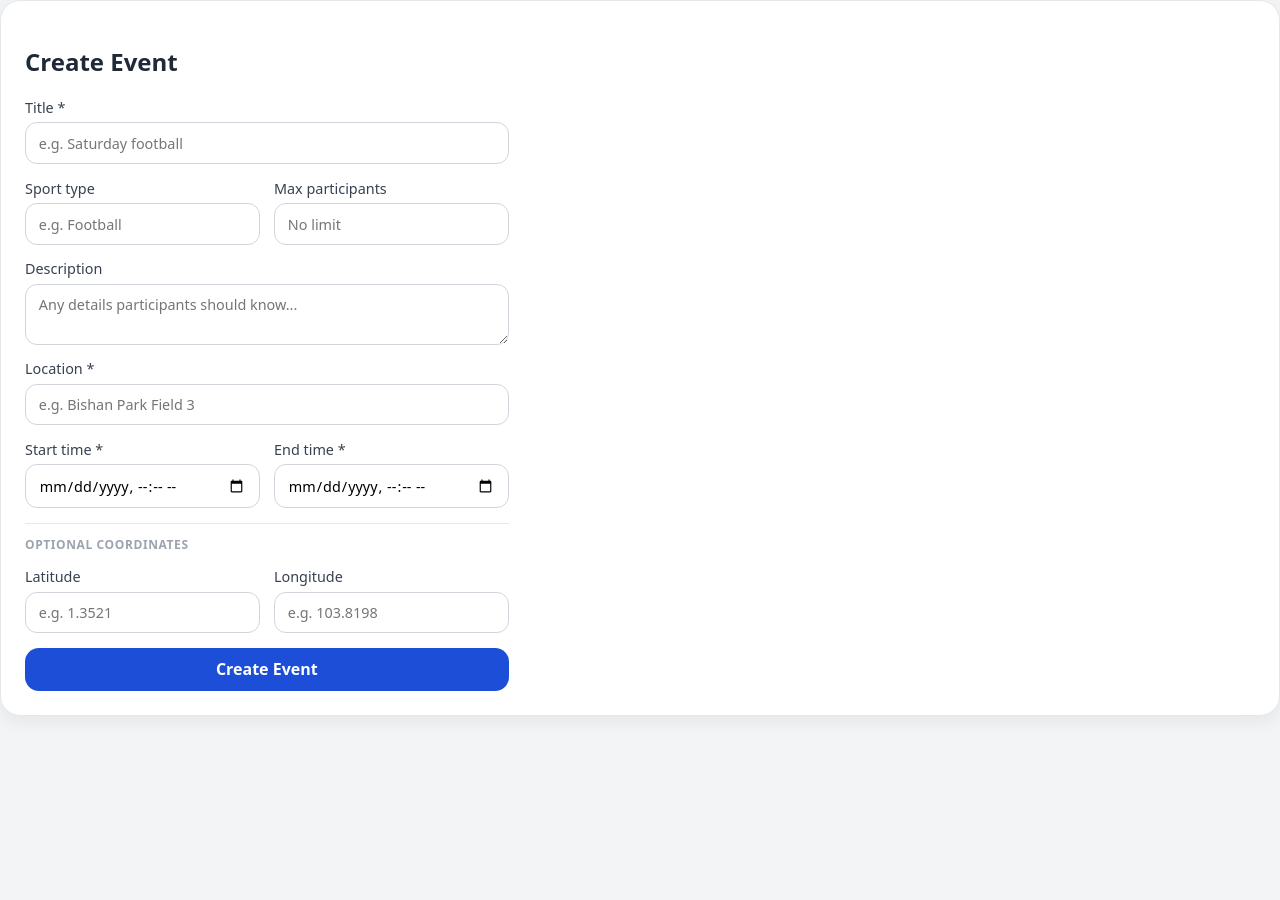
Test: CreateEventPage › shows ApiError message when creation fails
The image size is (1280, 900).
Type "Park Run" into the field labelled "Title *". click: (267, 143)
box: [25, 122, 509, 164]
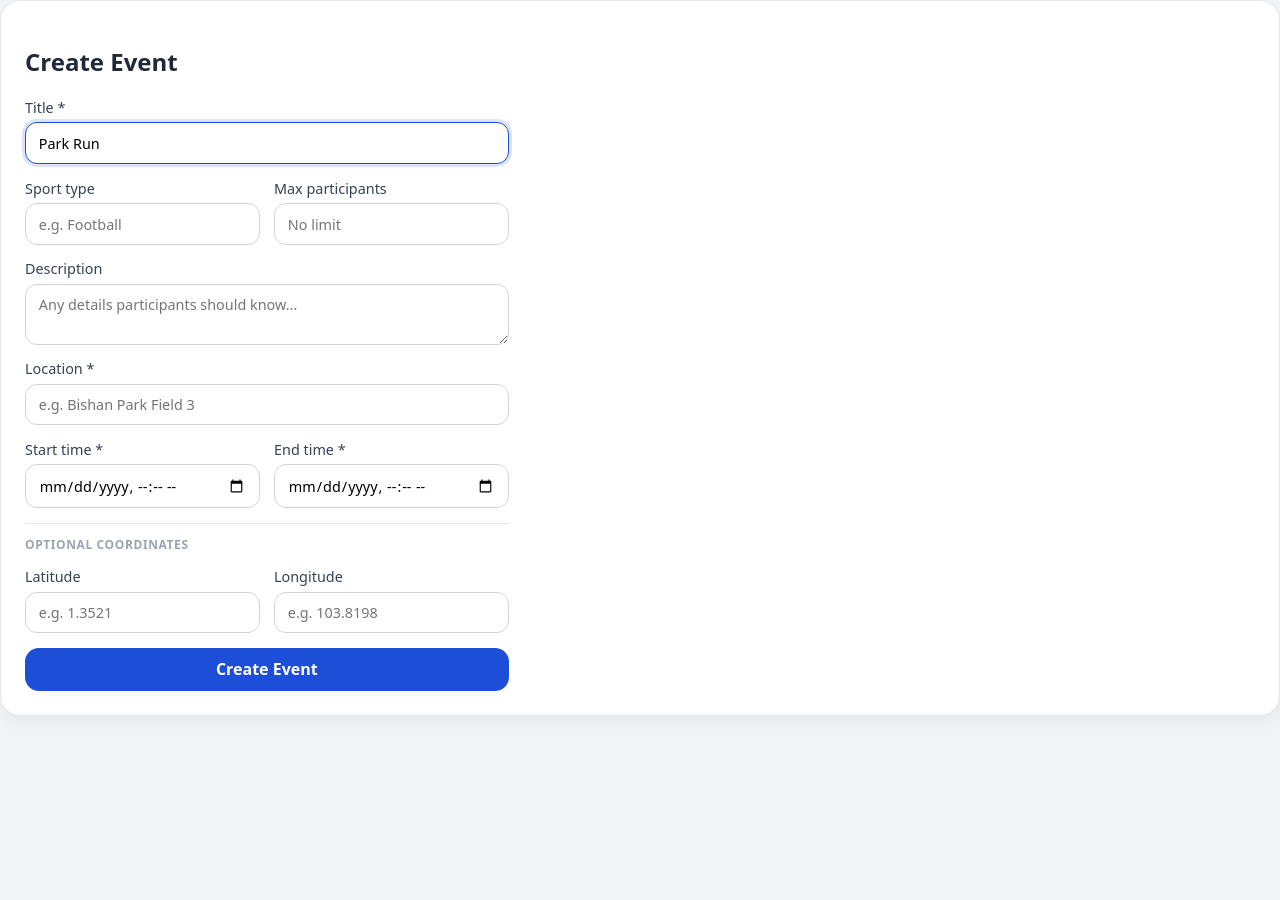
Type "Botanic Gardens" into the field labelled "Location *". click: (267, 405)
box: [25, 384, 509, 426]
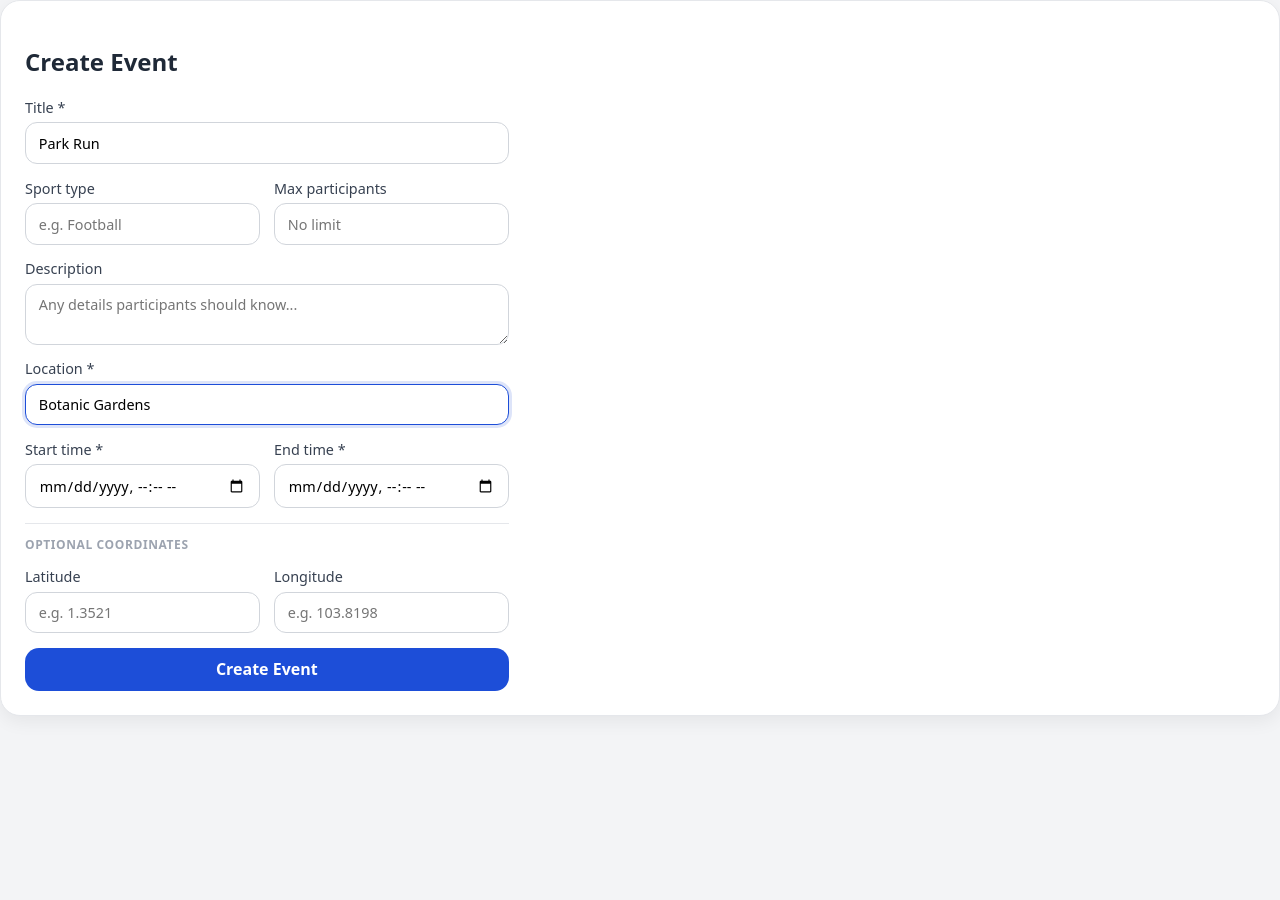
Type "2025-07-01T08:00" into the field labelled "Start time *". click: (142, 486)
box: [25, 464, 260, 508]
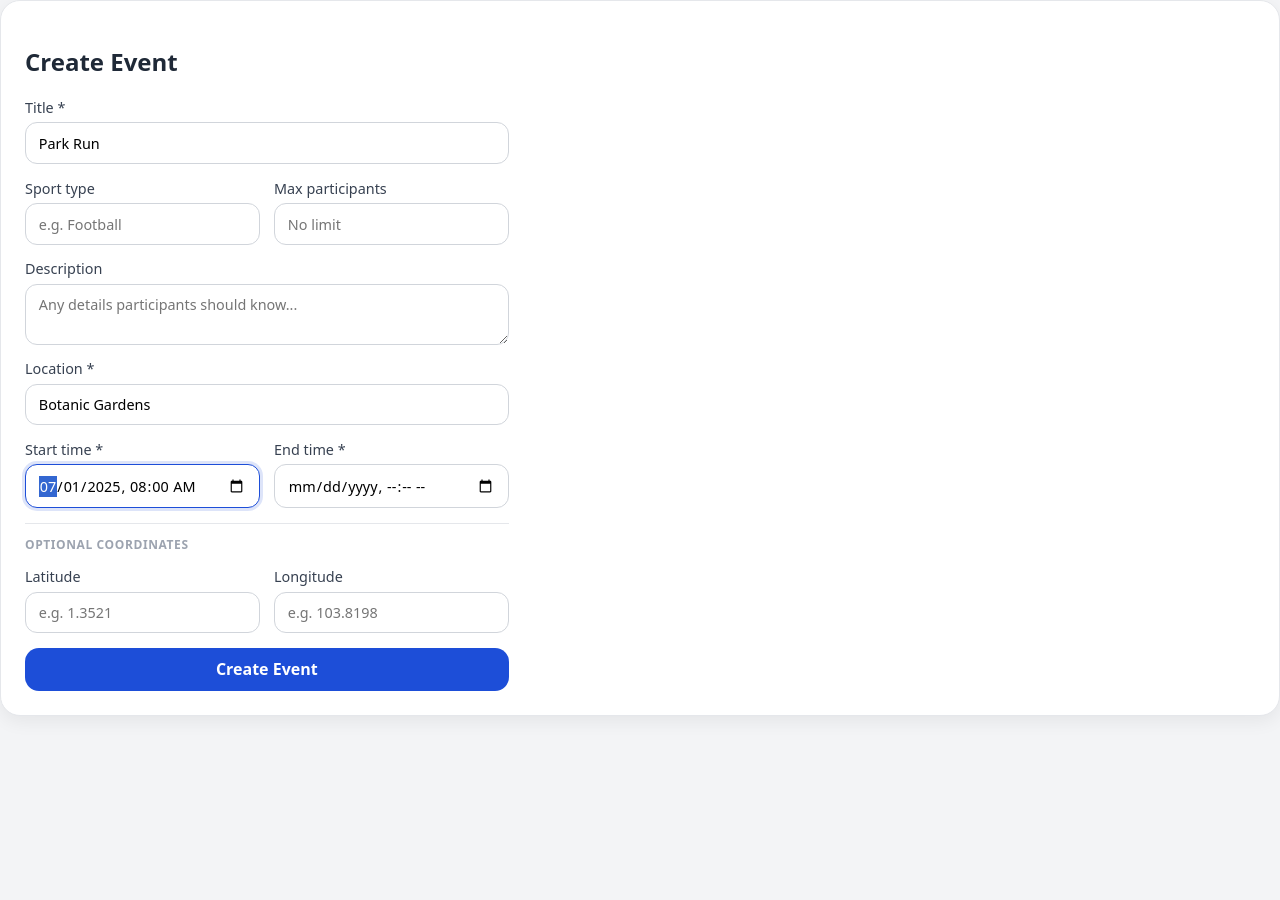
Type "2025-07-01T07:00" into the field labelled "End time *". click: (391, 486)
box: [274, 464, 509, 508]
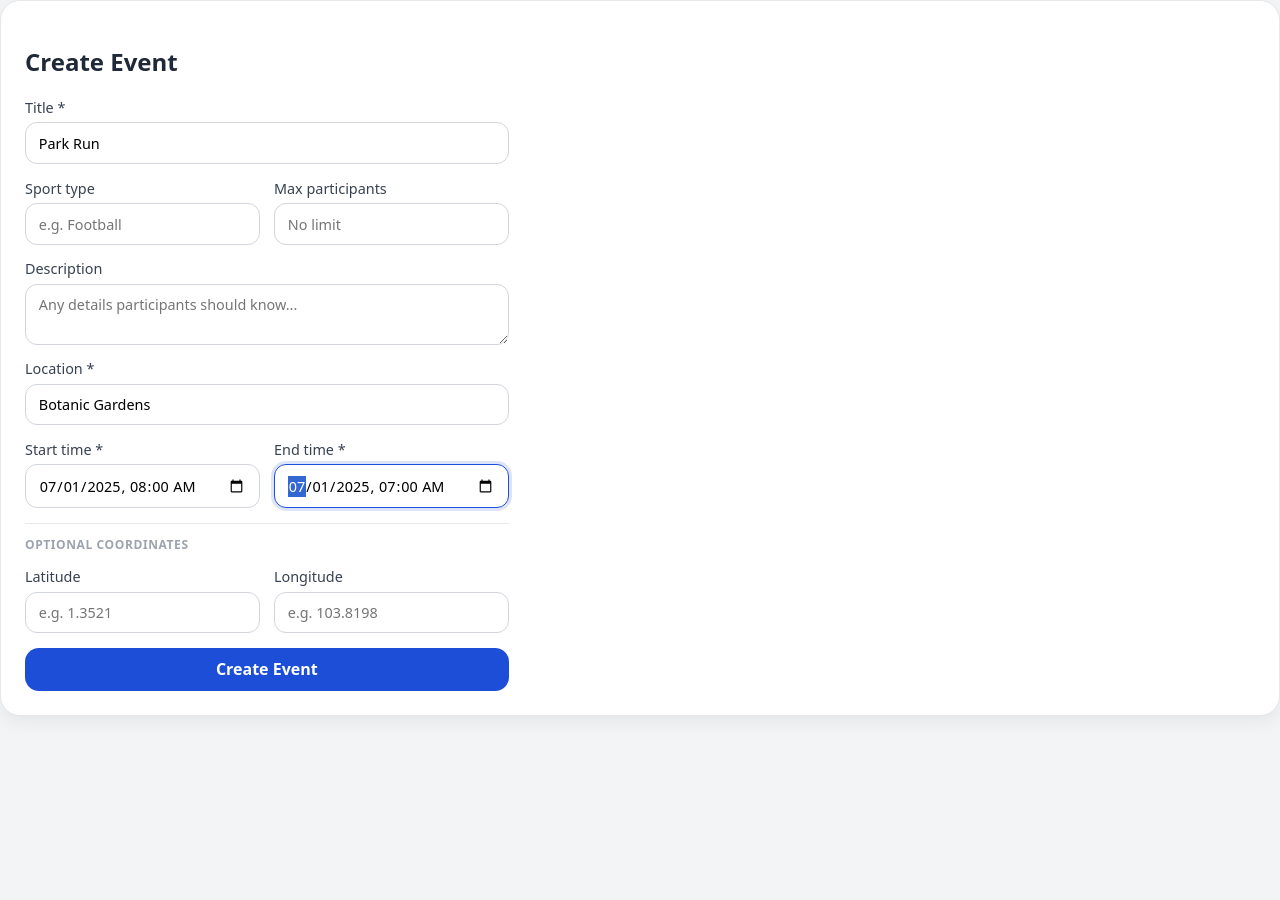
Click the button "Create Event". click: (267, 669)
box: [25, 648, 509, 691]
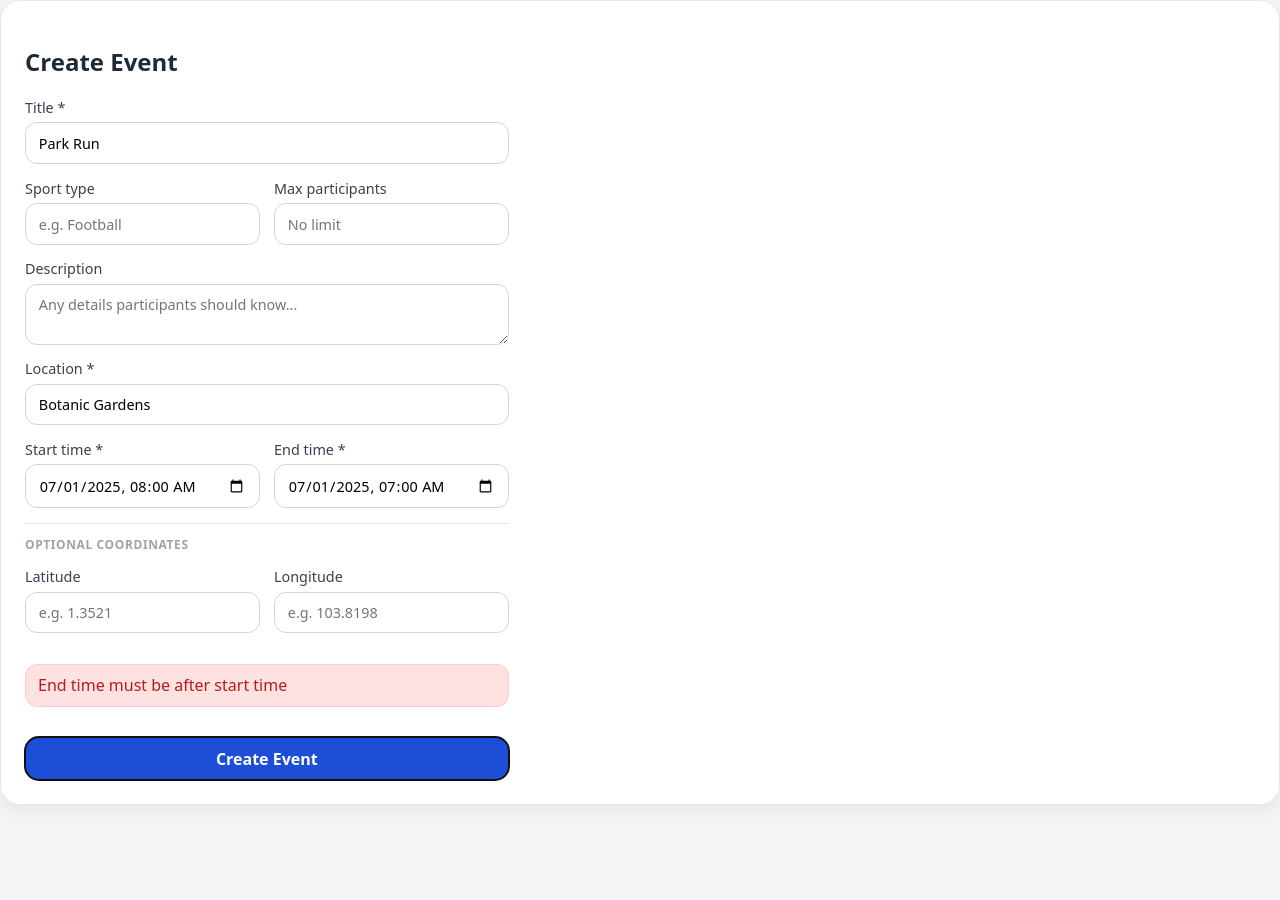
Result: the text "End time must be after start time" is shown at [25, 664, 509, 707]
